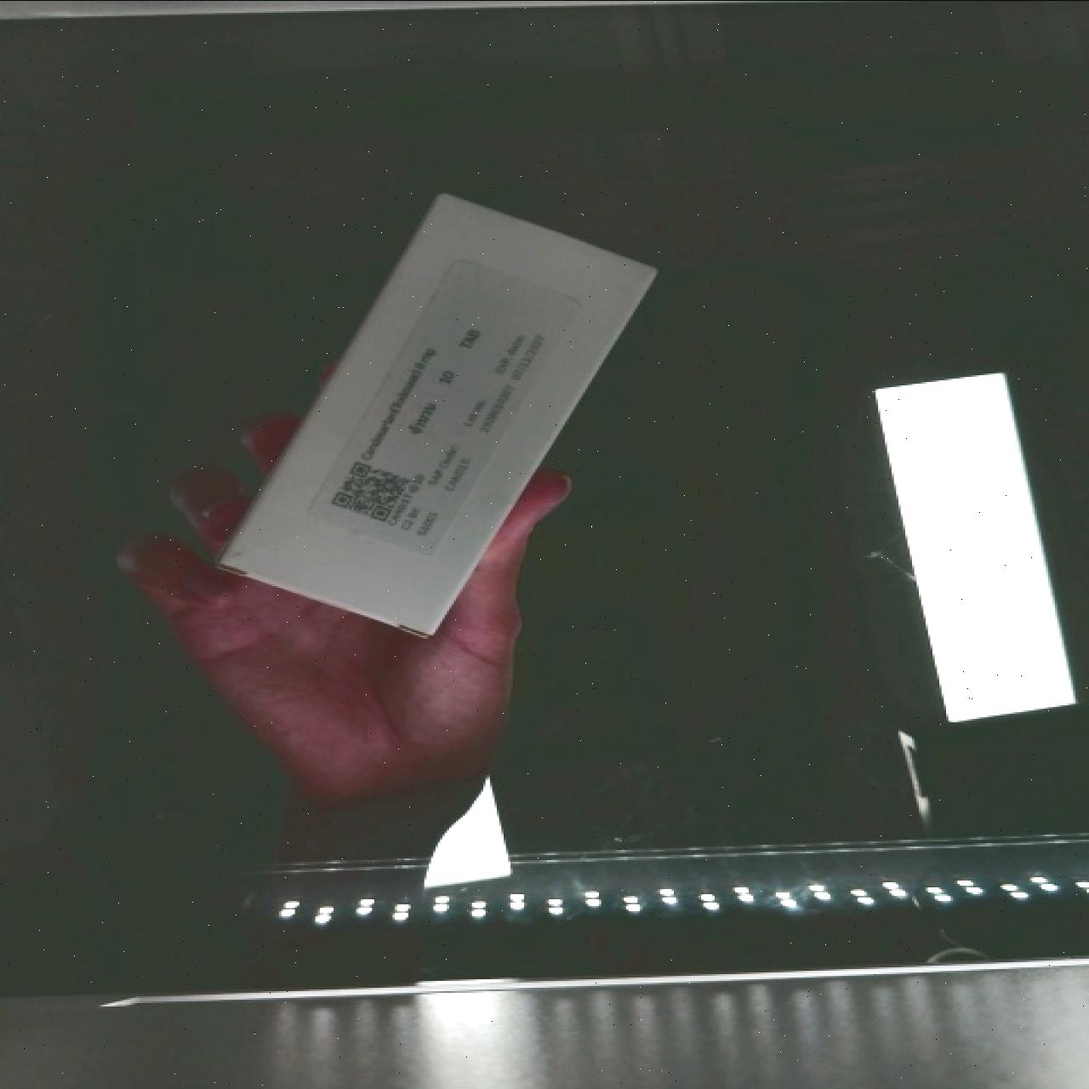qr_code: (311, 439, 442, 550)
